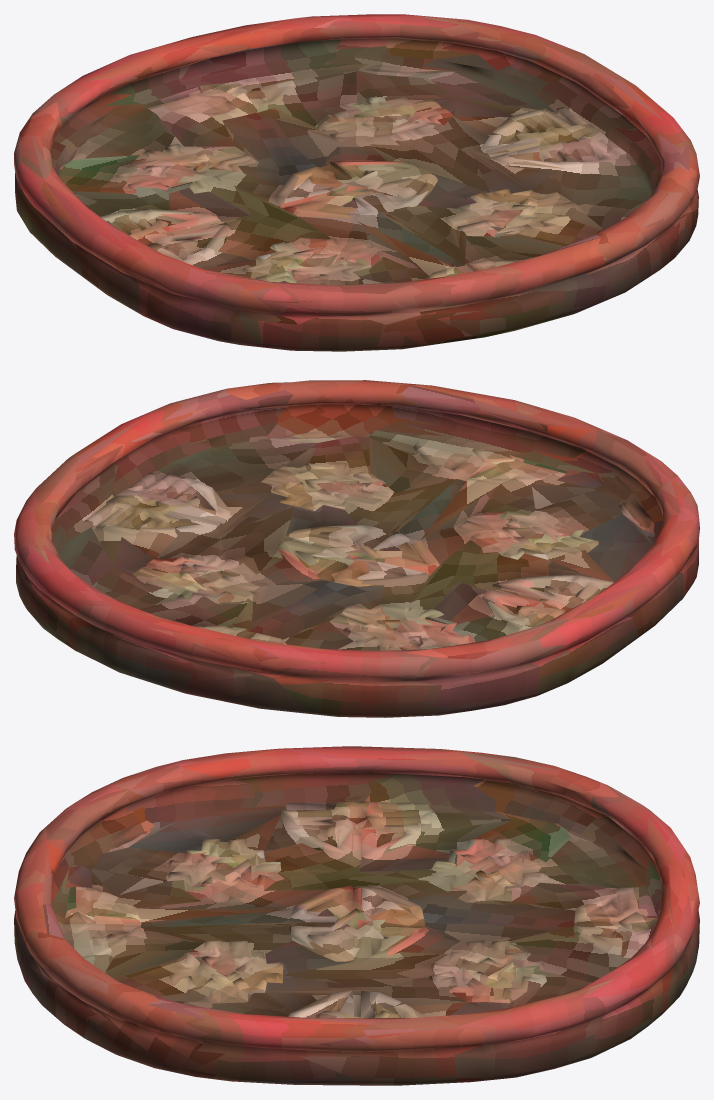
The model's file is KR_사물_s1_prop_tray.glb.
The picture shows the model from 3 angles, top to bottom: view 1: azimuth 30°, elevation 25°; view 2: azimuth 150°, elevation 25°; view 3: azimuth 270°, elevation 25°; orthographic projection. The views are drawn at different scales.
Visible parts, largest first — view 1: tripo_node_2067d342-d3fd-4a02-8604-e5e661f46b63; view 2: tripo_node_2067d342-d3fd-4a02-8604-e5e661f46b63; view 3: tripo_node_2067d342-d3fd-4a02-8604-e5e661f46b63.
Part boxes in pixels (x1=…): tripo_node_2067d342-d3fd-4a02-8604-e5e661f46b63: x1=14, y1=14, x2=699, y2=351; tripo_node_2067d342-d3fd-4a02-8604-e5e661f46b63: x1=14, y1=380, x2=699, y2=717; tripo_node_2067d342-d3fd-4a02-8604-e5e661f46b63: x1=14, y1=746, x2=699, y2=1085.
Bounding box in the file's own units: 0.9975 × 0.1017 × 1.
Materials: 1 (1 with a texture image).
